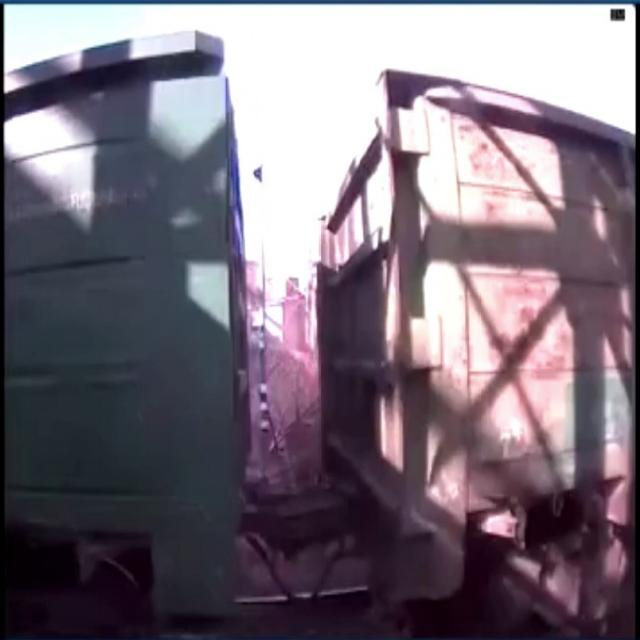gondola: (295, 48, 640, 640), (0, 10, 266, 640)
